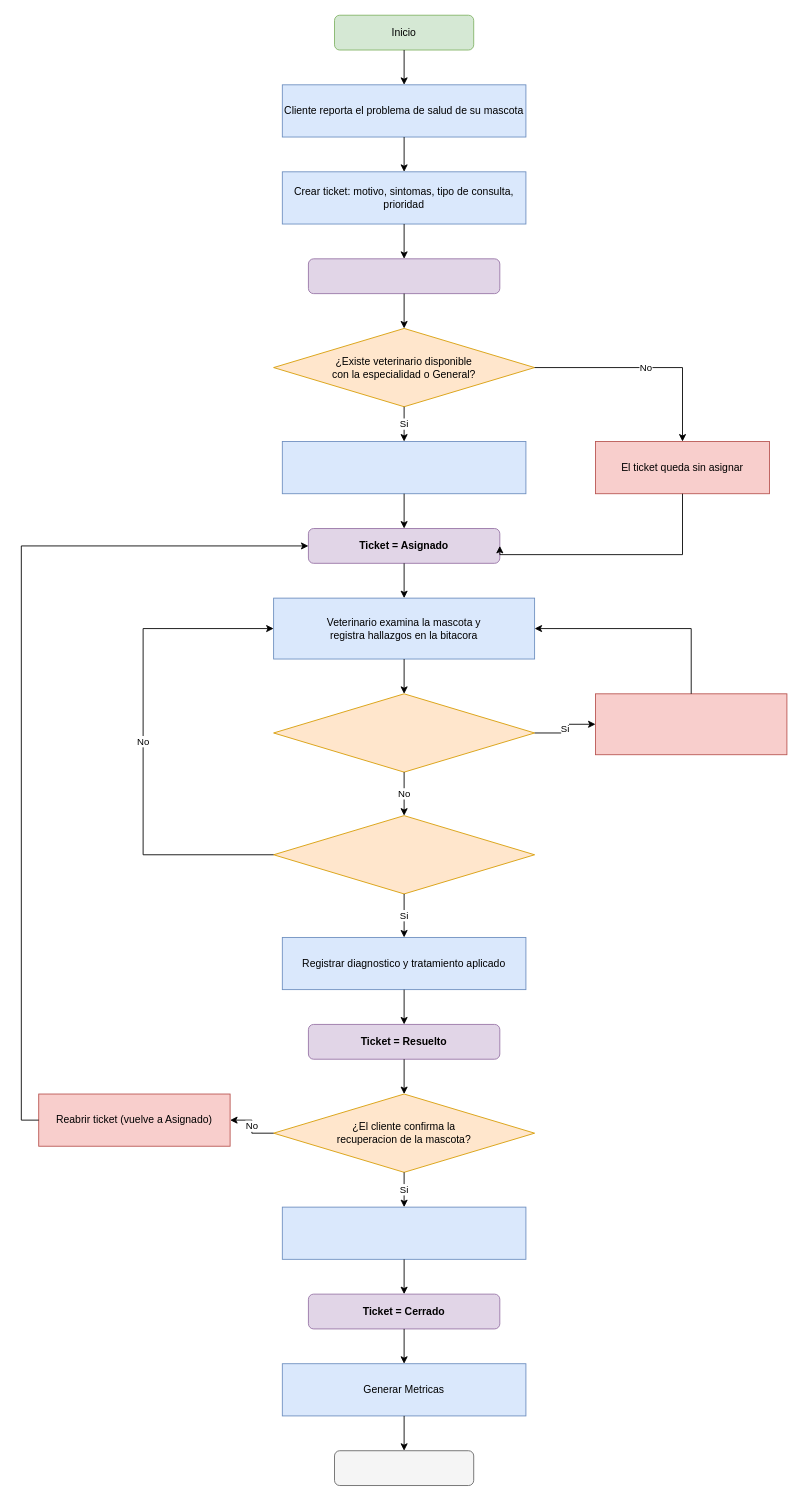
This 802x1501 diagram has some shape labels left out. Each missing label, with the centre of its shape:
"Asignar Ticket: veterinario con menor carga" goes at (x=403, y=467).
"Cerrar ticket" goes at (x=403, y=1232).
"Escalar Ticket: prioridad = Emergencia, reasignar a veterinario senior" goes at (x=691, y=724).
"Fin" goes at (x=404, y=1468).
"Ticket = Abierto" goes at (x=404, y=276).
"¿El hallazgo requiere escalar (gravedad Alta o Critica)?" goes at (x=404, y=732).
"¿Veterinario aplico diagnostico y tratamiento?" goes at (x=404, y=854).
